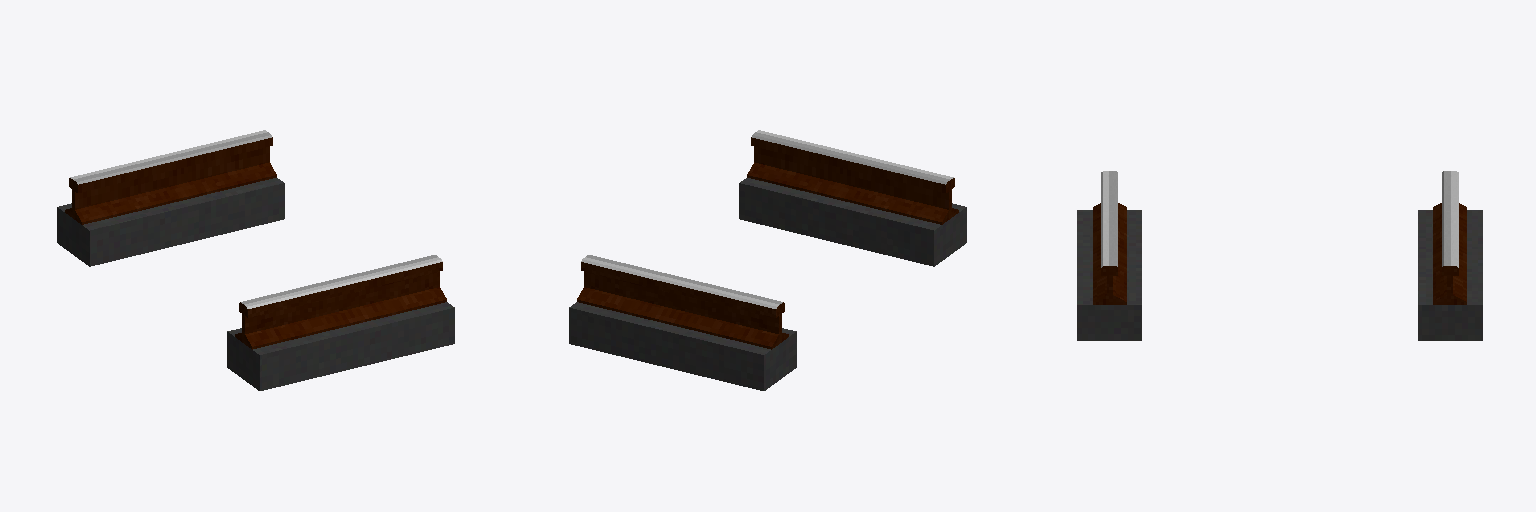
3 views of the same model, side by side, from view 1: azimuth 30°, elevation 25°; view 2: azimuth 150°, elevation 25°; view 3: azimuth 270°, elevation 25° (orthographic).
Parts seen in each view (by area): view 1: RAIL_BASE_Cube.002, RAIL_LEFT_Cube.001, RAIL_RIGHT_Cube.005; view 2: RAIL_BASE_Cube.002, RAIL_RIGHT_Cube.005, RAIL_LEFT_Cube.001; view 3: RAIL_BASE_Cube.002, RAIL_LEFT_Cube.001, RAIL_RIGHT_Cube.005.
Part boxes in pixels (x1,y1,x2,y2): RAIL_BASE_Cube.002: (57, 178, 454, 390); RAIL_LEFT_Cube.001: (235, 255, 446, 349); RAIL_RIGHT_Cube.005: (65, 130, 276, 224); RAIL_BASE_Cube.002: (569, 178, 966, 390); RAIL_RIGHT_Cube.005: (577, 255, 788, 349); RAIL_LEFT_Cube.001: (747, 130, 958, 224); RAIL_BASE_Cube.002: (1077, 210, 1482, 340); RAIL_LEFT_Cube.001: (1093, 171, 1126, 304); RAIL_RIGHT_Cube.005: (1433, 171, 1466, 304).
Bounding box in the file's own units: 1 × 0.3683 × 1.8.
2 materials, 2 textured.